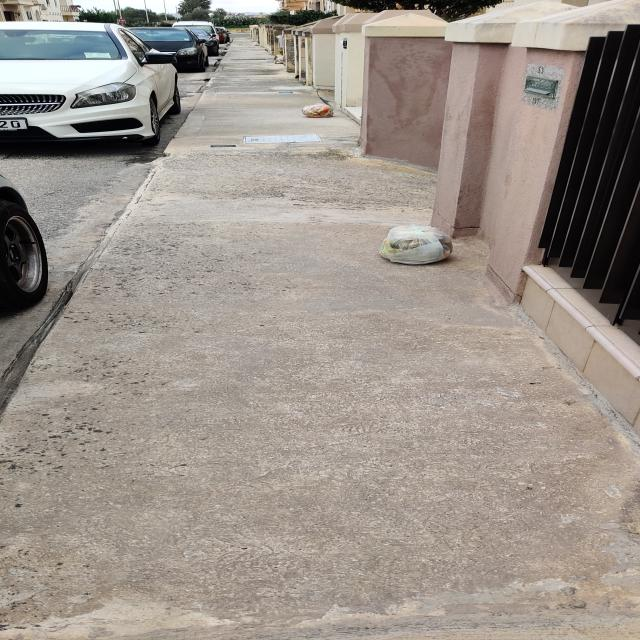Organic Waste -White Bags-: (378, 225, 457, 265), (301, 103, 334, 118), (273, 57, 284, 65), (252, 42, 260, 46)
